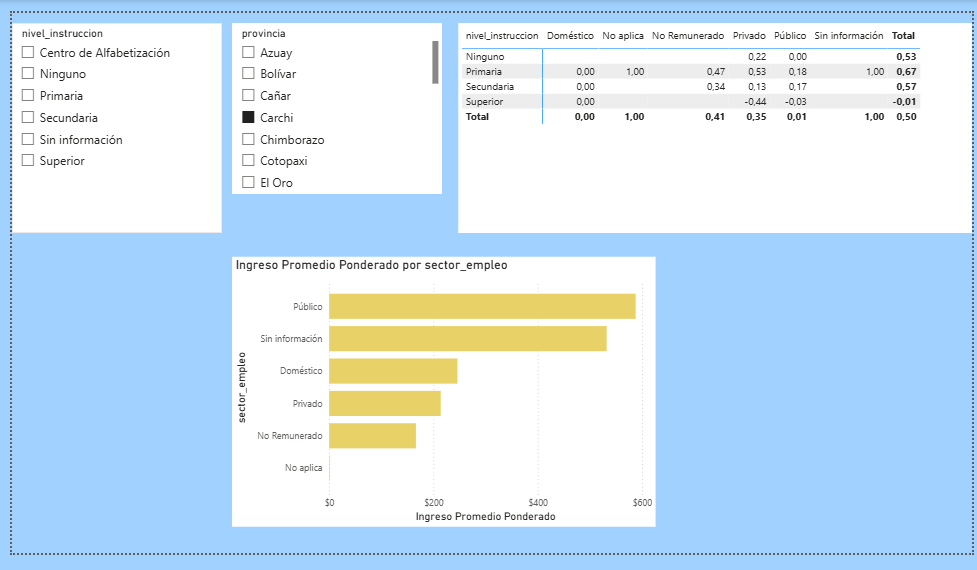

This screenshot's page, from the dashboard's own definition file:
{"tool":"powerbi","page":{"name":"Página 2","canvas":[1280,720],"ordinal":1},"visuals":[{"type":"slicer","fields":{"Values":["public dim_persona.nivel_instruccion"]},"box":[0,13.3,280,280],"z":0},{"type":"slicer","fields":{"Values":["public dim_geografia.provincia"]},"box":[293.3,13.3,280,228.3],"z":1000},{"type":"barChart","fields":{"Category":["public dim_ocupacion.sector_empleo"],"Y":["public fact_situacion_laboral.Ingreso Promedio Ponderado"]},"box":[293.3,325,565,360],"z":2000},{"type":"pivotTable","fields":{"Rows":["public dim_persona.nivel_instruccion"],"Columns":["public dim_ocupacion.sector_empleo"],"Values":["public fact_situacion_laboral.Brecha Salarial %"]},"box":[595,13.3,685,280],"z":3000}]}

Visuals, with their boxes in screenshot pixels (x1, y1, x2, y2):
slicer - public dim_persona.nivel_instruccion: left=8, top=20, right=218, bottom=231
slicer - public dim_geografia.provincia: left=228, top=20, right=439, bottom=192
barChart - public dim_ocupacion.sector_empleo x public fact_situacion_laboral.Ingreso Promedio Ponderado: left=228, top=255, right=654, bottom=526
pivotTable - public dim_persona.nivel_instruccion x public dim_ocupacion.sector_empleo: left=456, top=20, right=971, bottom=231
